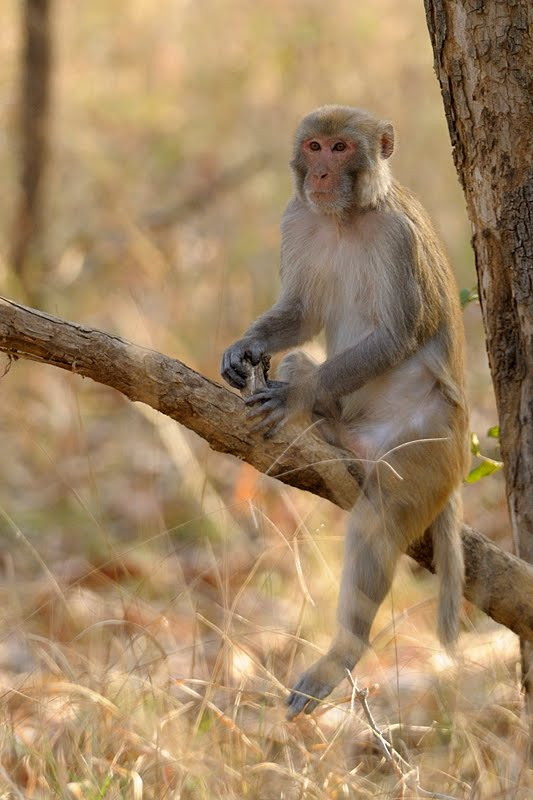monkey: (199, 89, 499, 730)
